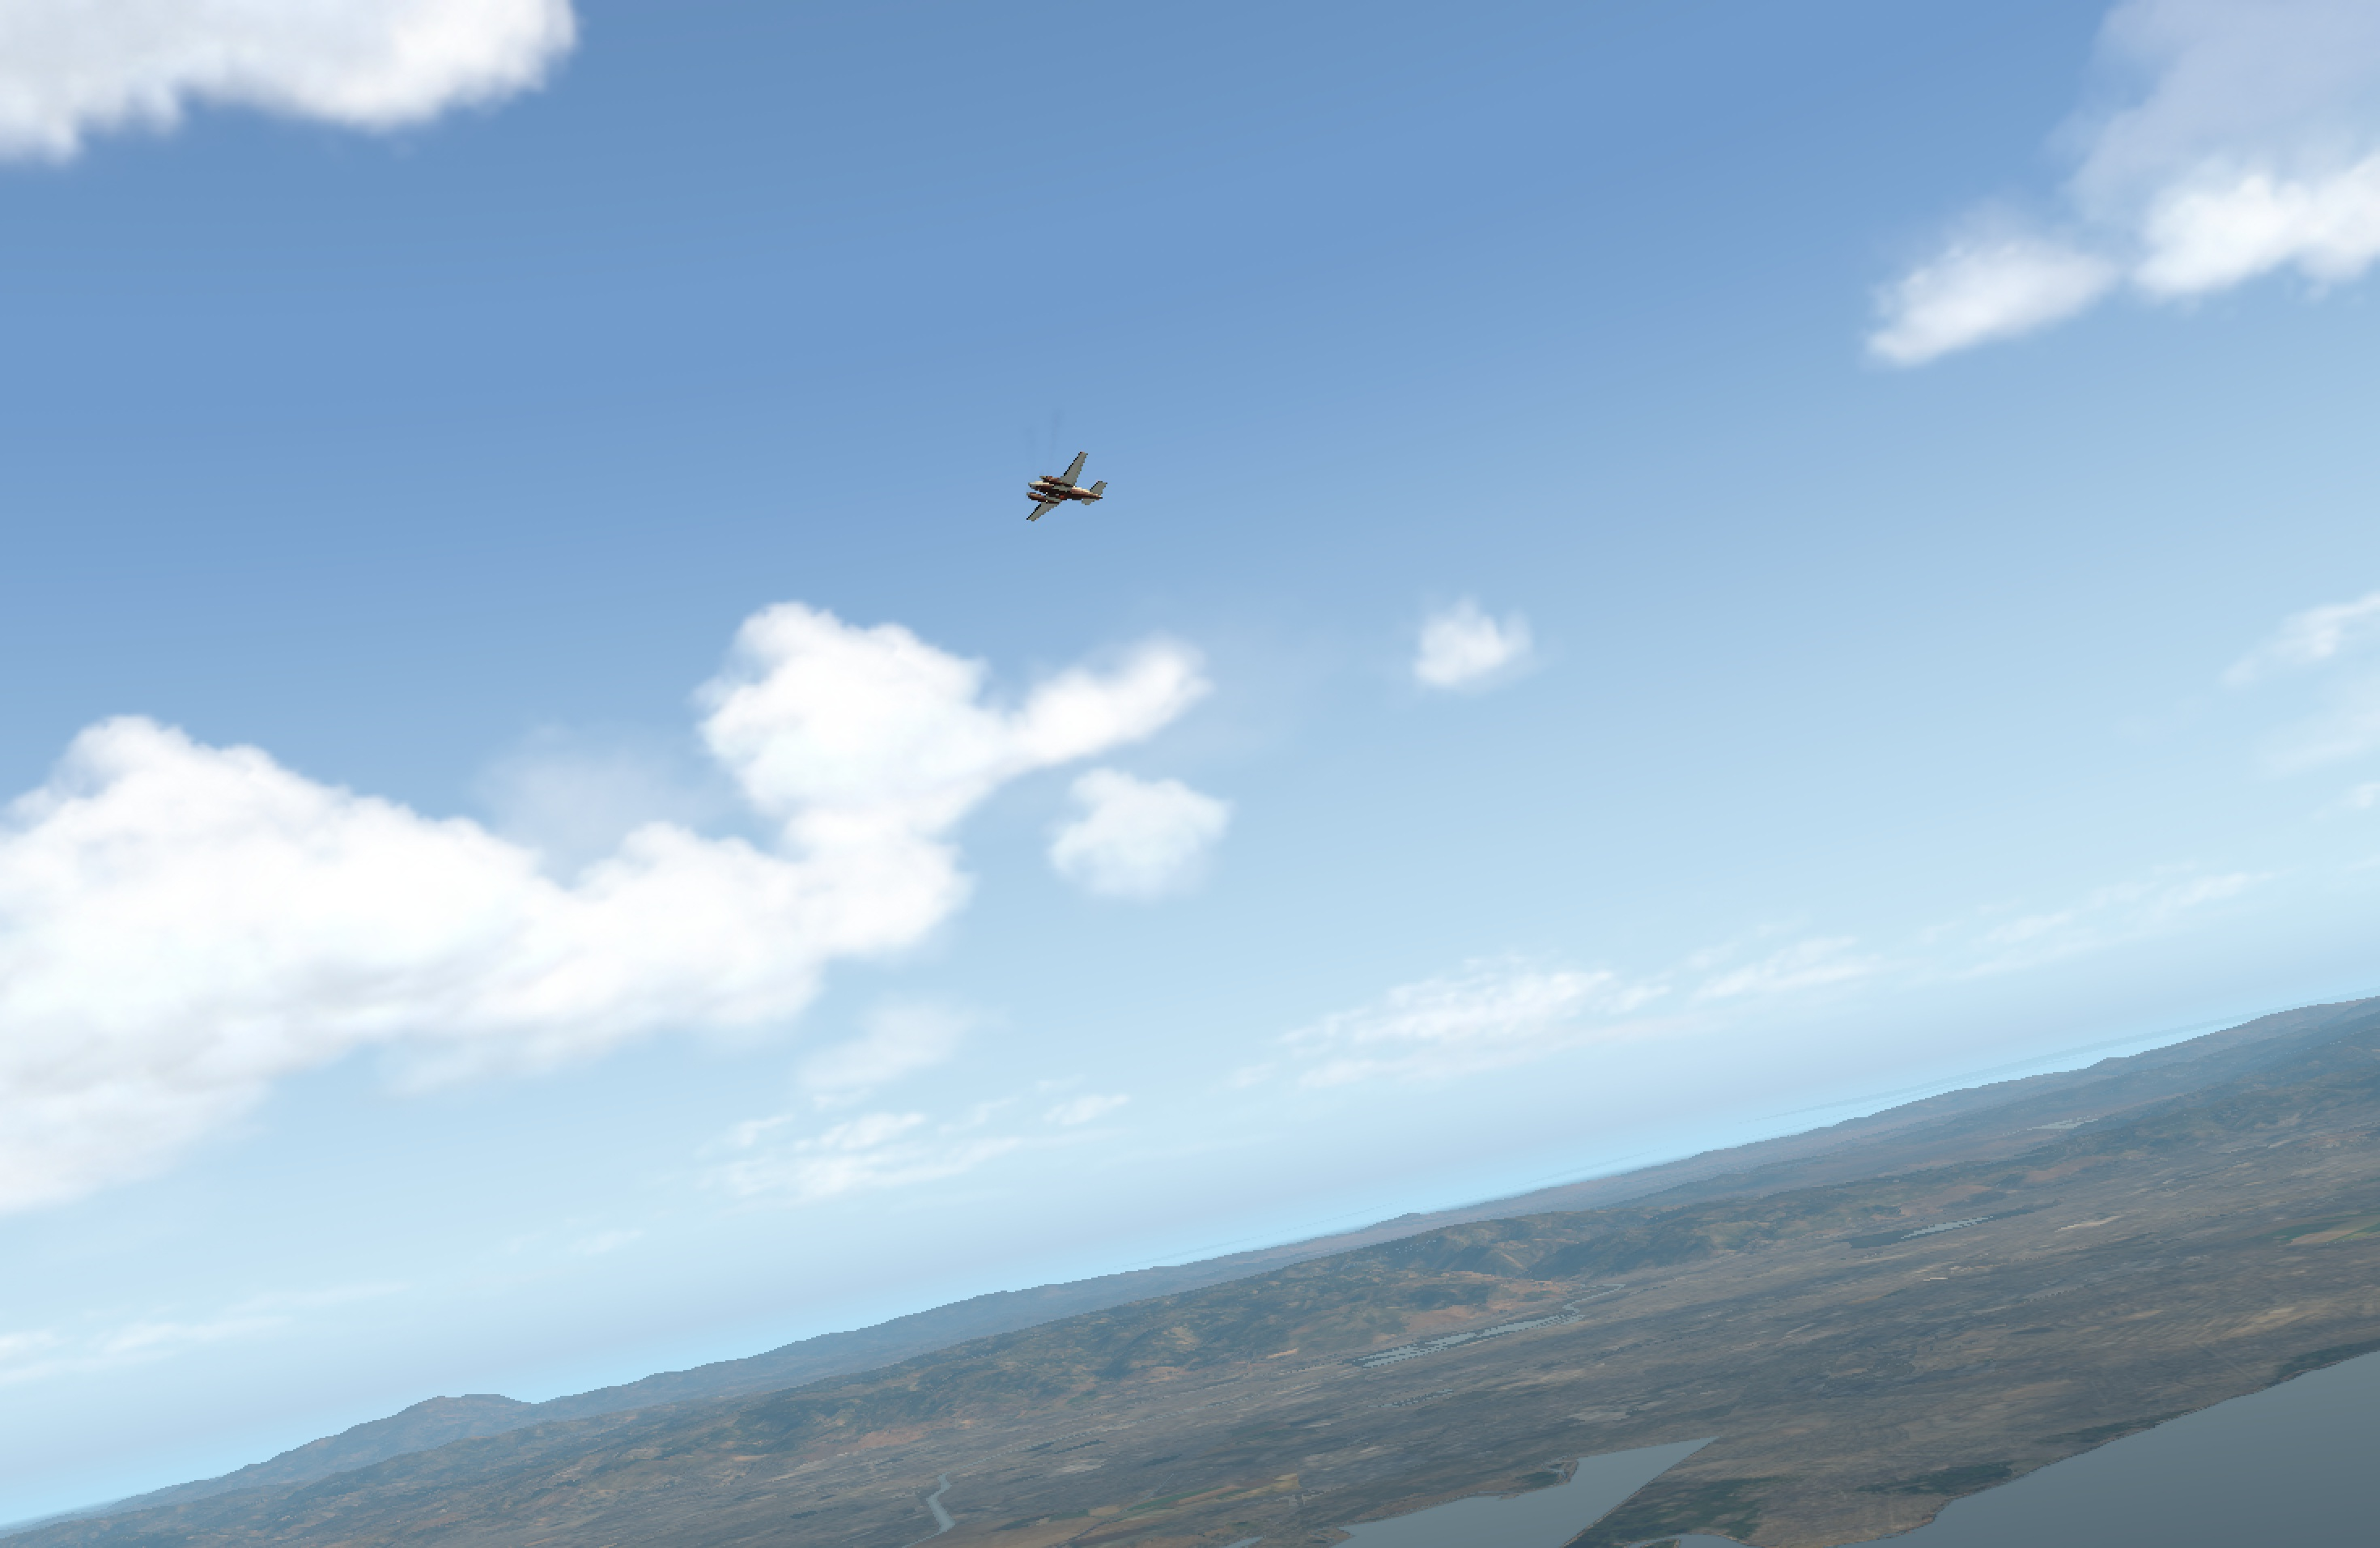aircraft: (991, 469, 1115, 515)
